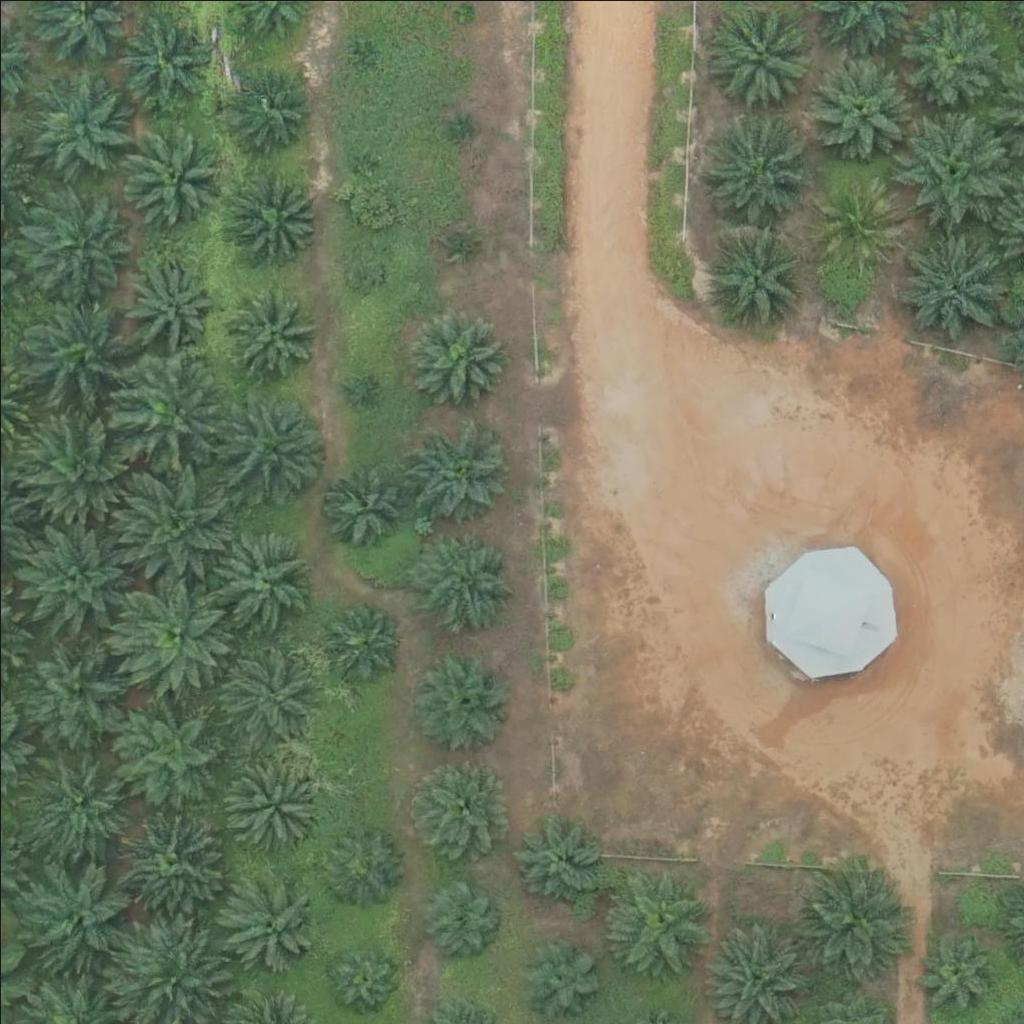Kelapa_Sawit: (215, 390, 328, 504), (891, 227, 1004, 341), (893, 111, 1006, 225), (792, 866, 905, 979), (110, 803, 223, 916), (17, 858, 130, 971), (23, 747, 136, 860), (15, 632, 128, 745), (601, 865, 713, 979), (116, 462, 228, 576), (22, 292, 134, 406), (18, 189, 130, 303), (113, 356, 225, 470), (116, 694, 228, 807), (117, 573, 229, 686), (14, 521, 126, 634), (25, 406, 137, 519), (697, 113, 809, 226), (415, 531, 515, 632), (217, 870, 317, 971), (222, 752, 322, 853), (31, 73, 131, 174), (122, 124, 222, 225), (114, 12, 214, 113), (407, 420, 507, 521), (409, 312, 509, 413), (707, 225, 807, 326), (405, 758, 505, 858), (410, 651, 510, 751), (212, 639, 312, 739), (210, 526, 310, 626), (712, 6, 812, 106), (806, 53, 906, 153), (900, 3, 1000, 103), (508, 818, 596, 906), (225, 64, 313, 152), (813, 175, 901, 263), (515, 933, 602, 1021), (419, 874, 506, 962), (317, 819, 404, 907), (125, 259, 212, 347), (225, 292, 312, 380), (232, 170, 319, 258), (319, 463, 406, 551), (324, 603, 399, 679), (919, 935, 994, 1010), (326, 940, 401, 1015), (343, 250, 381, 288), (343, 378, 368, 403), (347, 148, 372, 173), (353, 32, 378, 57), (447, 228, 472, 253), (447, 115, 472, 140)
